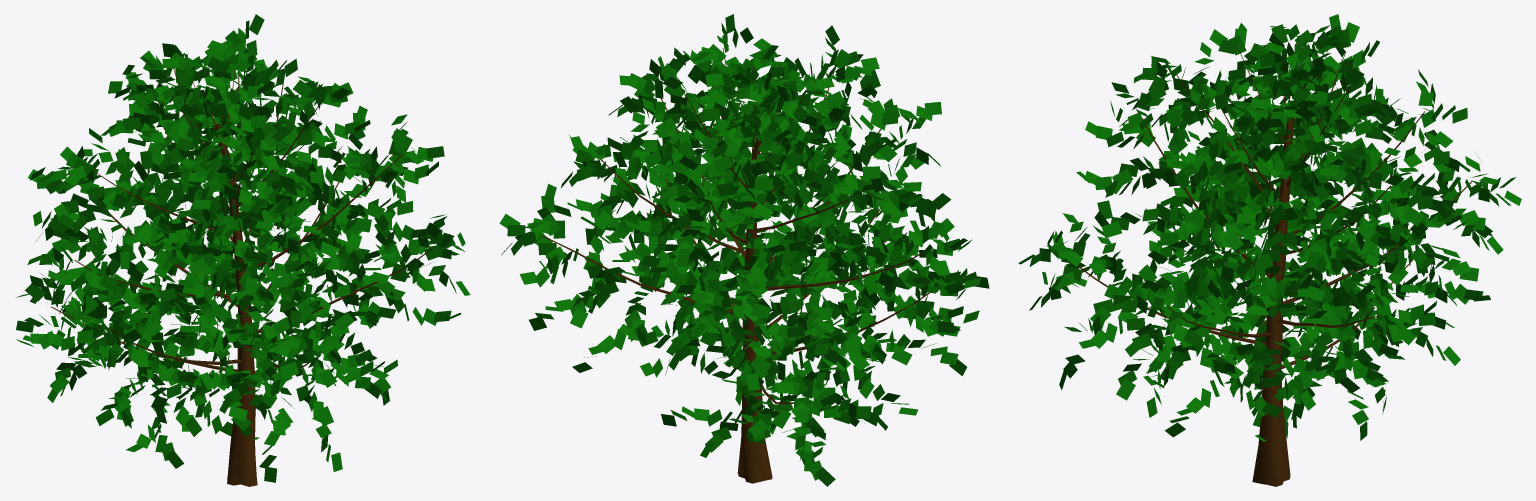
File: arbrepetit.fbx
3 renders of one model, left to right at view 1: azimuth 30°, elevation 25°; view 2: azimuth 150°, elevation 25°; view 3: azimuth 270°, elevation 25°, orthographic. The views are drawn at different scales.
Visible parts, largest first — view 1: Foliage002; view 2: Foliage002; view 3: Foliage002.
Boxes of the visible parts, x1,y1,x2,y2 form: Foliage002: [16, 14, 470, 486]; Foliage002: [499, 14, 989, 486]; Foliage002: [1018, 14, 1521, 486].
Size of the model in its own units: 405 by 411 by 423.
